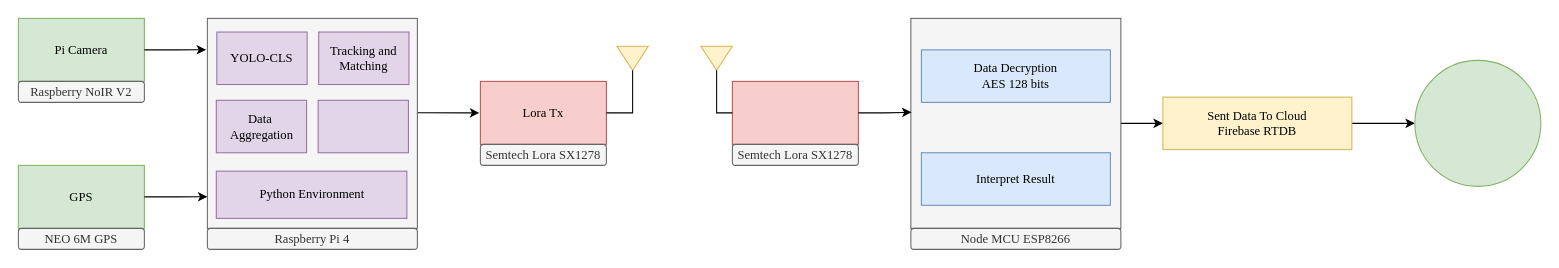
This 1559x268 diagram has some shape labels left out. Each missing label, with the centre of its shape:
"CLIENT" belongs at pixel 1477 122.
"Data Encryption AES128 bits" belongs at pixel 362 126.
"Lora Rx" belongs at pixel 794 112.
